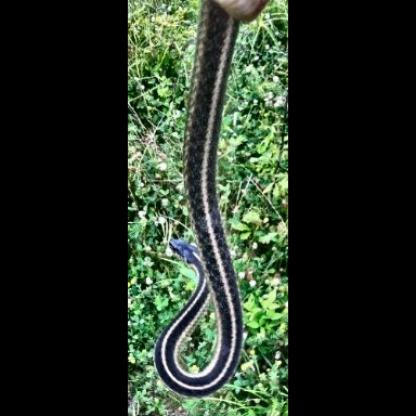Snake: (157, 6, 247, 395)
